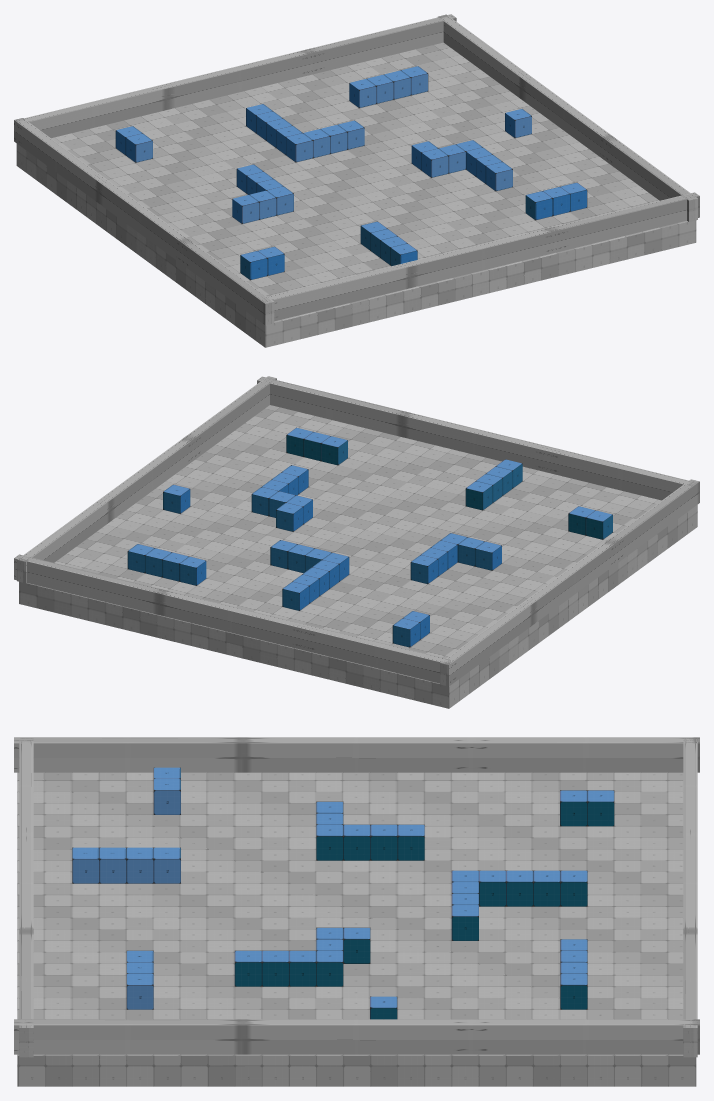
3 renders of one model, top to bottom at view 1: azimuth 30°, elevation 25°; view 2: azimuth 150°, elevation 25°; view 3: azimuth 270°, elevation 25°, orthographic. The views are drawn at different scales.
Parts seen in each view (by area): view 1: Ground.phys-static, border.phys.002, border.phys.003, border.phys, border.phys.001, cube.phys-static.001, cube.phys-static.006, cube.phys-static.012, cube.phys-static.024, cube.phys-static.029, cube.phys-static.032, cube.phys-static.034 (+2 smaller); view 2: Ground.phys-static, border.phys.003, border.phys.002, border.phys, border.phys.001, cube.phys-static.010, cube.phys-static.024, cube.phys-static.026, cube.phys-static.033, cube.phys-static.034, cube.phys-static, cube.phys-static.020 (+3 smaller); view 3: Ground.phys-static, border.phys.001, border.phys, border.phys.003, border.phys.002, cube.phys-static.009, cube.phys-static.020, cube.phys-static.022, cube.phys-static.027, cube.phys-static, cube.phys-static.003, cube.phys-static.004 (+17 smaller).
Part boxes in pixels (x1=…): Ground.phys-static: x1=16, y1=42, x2=696, y2=347; border.phys.002: x1=262, y1=192, x2=699, y2=321; border.phys.003: x1=24, y1=14, x2=456, y2=138; border.phys: x1=14, y1=118, x2=274, y2=325; border.phys.001: x1=438, y1=14, x2=697, y2=221; cube.phys-static.001: x1=421, y1=148, x2=448, y2=177; cube.phys-static.006: x1=485, y1=162, x2=512, y2=191; cube.phys-static.012: x1=232, y1=194, x2=259, y2=223; cube.phys-static.024: x1=349, y1=78, x2=376, y2=107; cube.phys-static.029: x1=525, y1=191, x2=552, y2=220; cube.phys-static.032: x1=125, y1=133, x2=152, y2=162; cube.phys-static.034: x1=240, y1=251, x2=267, y2=280; Ground.phys-static: x1=19, y1=405, x2=697, y2=708; border.phys.003: x1=14, y1=554, x2=453, y2=683; border.phys.002: x1=257, y1=376, x2=695, y2=500; border.phys: x1=440, y1=479, x2=699, y2=686; border.phys.001: x1=17, y1=376, x2=276, y2=583; cube.phys-static.010: x1=410, y1=555, x2=437, y2=583; cube.phys-static.024: x1=179, y1=556, x2=206, y2=585; cube.phys-static.026: x1=465, y1=481, x2=492, y2=510; cube.phys-static.033: x1=392, y1=618, x2=419, y2=647; cube.phys-static.034: x1=585, y1=510, x2=612, y2=539; cube.phys-static: x1=276, y1=502, x2=303, y2=531; cube.phys-static.020: x1=282, y1=581, x2=309, y2=610; Ground.phys-static: x1=17, y1=772, x2=696, y2=1086; border.phys.001: x1=14, y1=1019, x2=699, y2=1054; border.phys: x1=14, y1=737, x2=699, y2=772; border.phys.003: x1=683, y1=738, x2=697, y2=1057; border.phys.002: x1=19, y1=738, x2=33, y2=1057; cube.phys-static.009: x1=370, y1=824, x2=397, y2=860; cube.phys-static.020: x1=560, y1=870, x2=587, y2=906; cube.phys-static.022: x1=560, y1=973, x2=587, y2=1009; cube.phys-static.027: x1=99, y1=847, x2=126, y2=883; cube.phys-static: x1=343, y1=927, x2=370, y2=963; cube.phys-static.003: x1=316, y1=950, x2=343, y2=986; cube.phys-static.004: x1=289, y1=950, x2=316, y2=986.
Size of the model in its own units: 50.65 by 5 by 50.52.
Materials: 2 (2 with a texture image).
